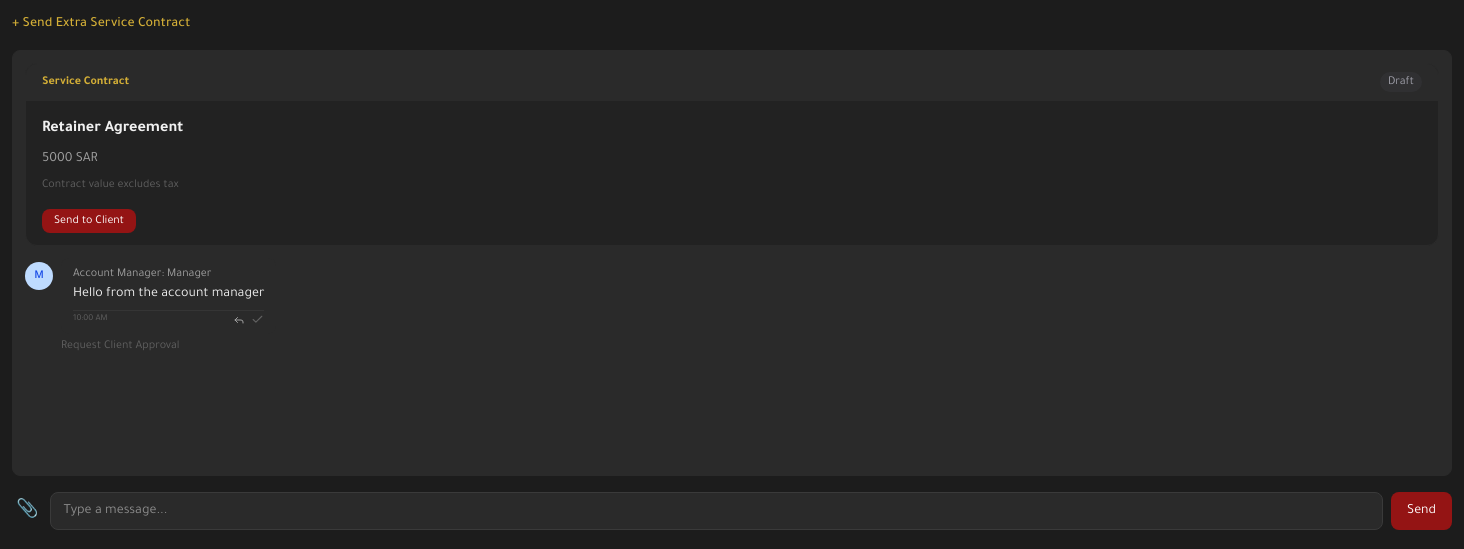
Test: ChatTab (characterization) › sends a text message and appends it to the list
The width and height of the screenshot is (1464, 549).
Expected: the text "Hello from the account manager" is shown, 73,287 -> 264,301
Step 1. Type "New message from me" into the field with placeholder "Type a message..." → [717, 511], box 50,492 -> 1383,530
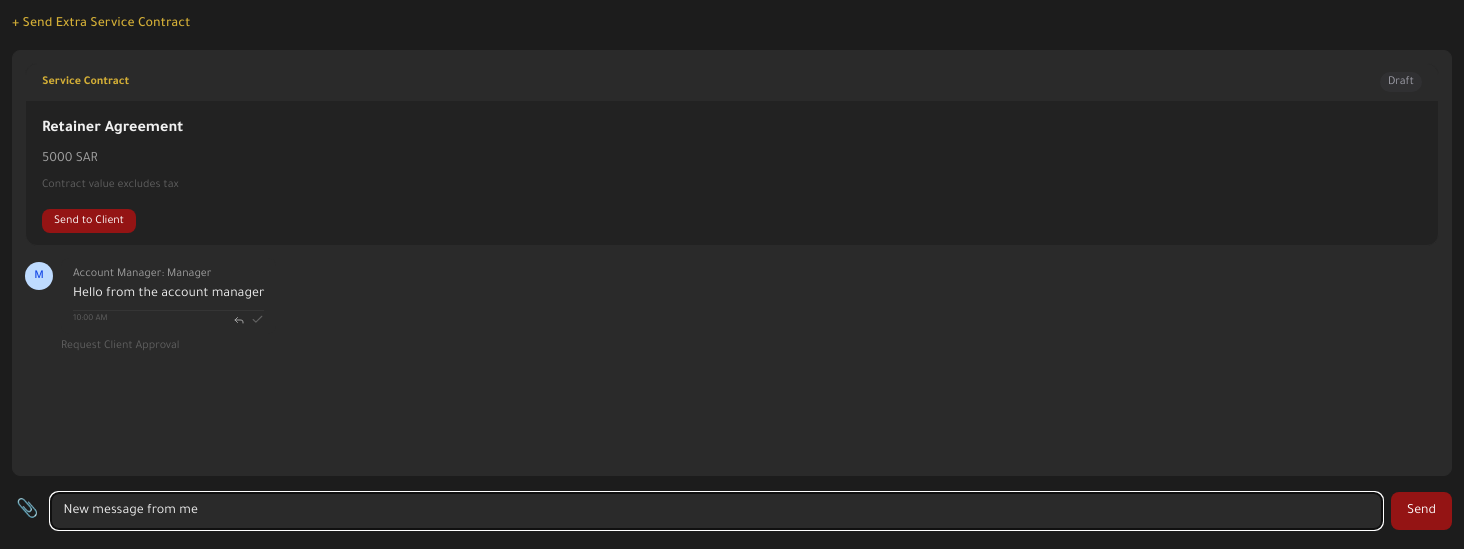
Step 2. Click the button "Send" → [1422, 511], box 1391,492 -> 1452,530
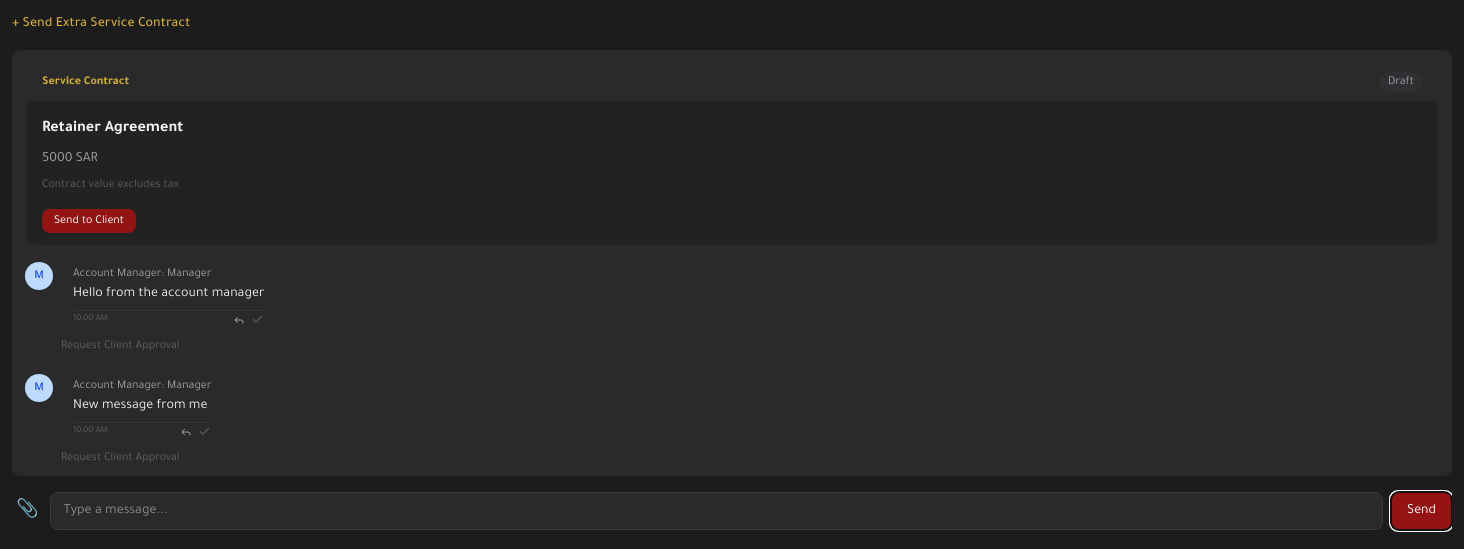
Expected: the text "New message from me" is shown, 73,399 -> 207,413
Expected: the field with placeholder "Type a message..." is empty, 50,492 -> 1383,530
